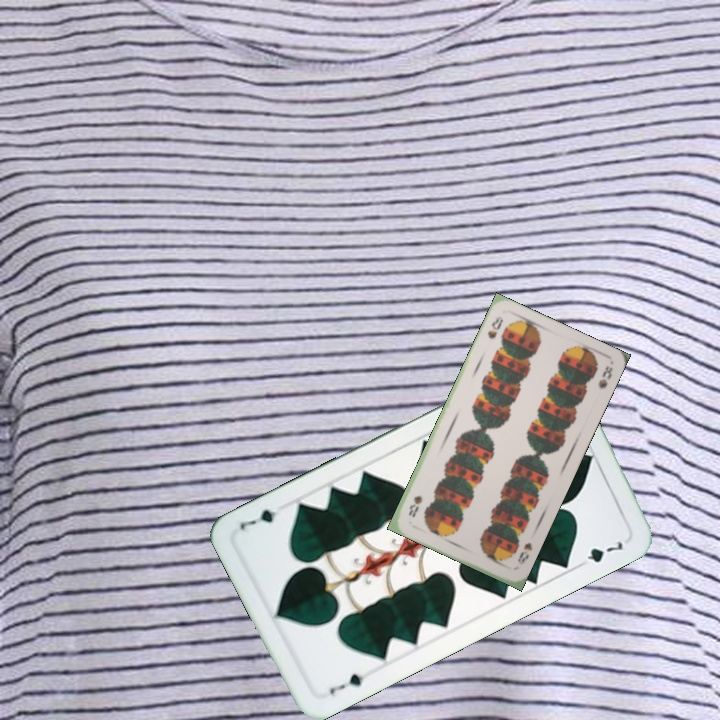G7: (325, 669, 366, 698)
S8: (483, 312, 506, 341), (513, 538, 535, 567)
